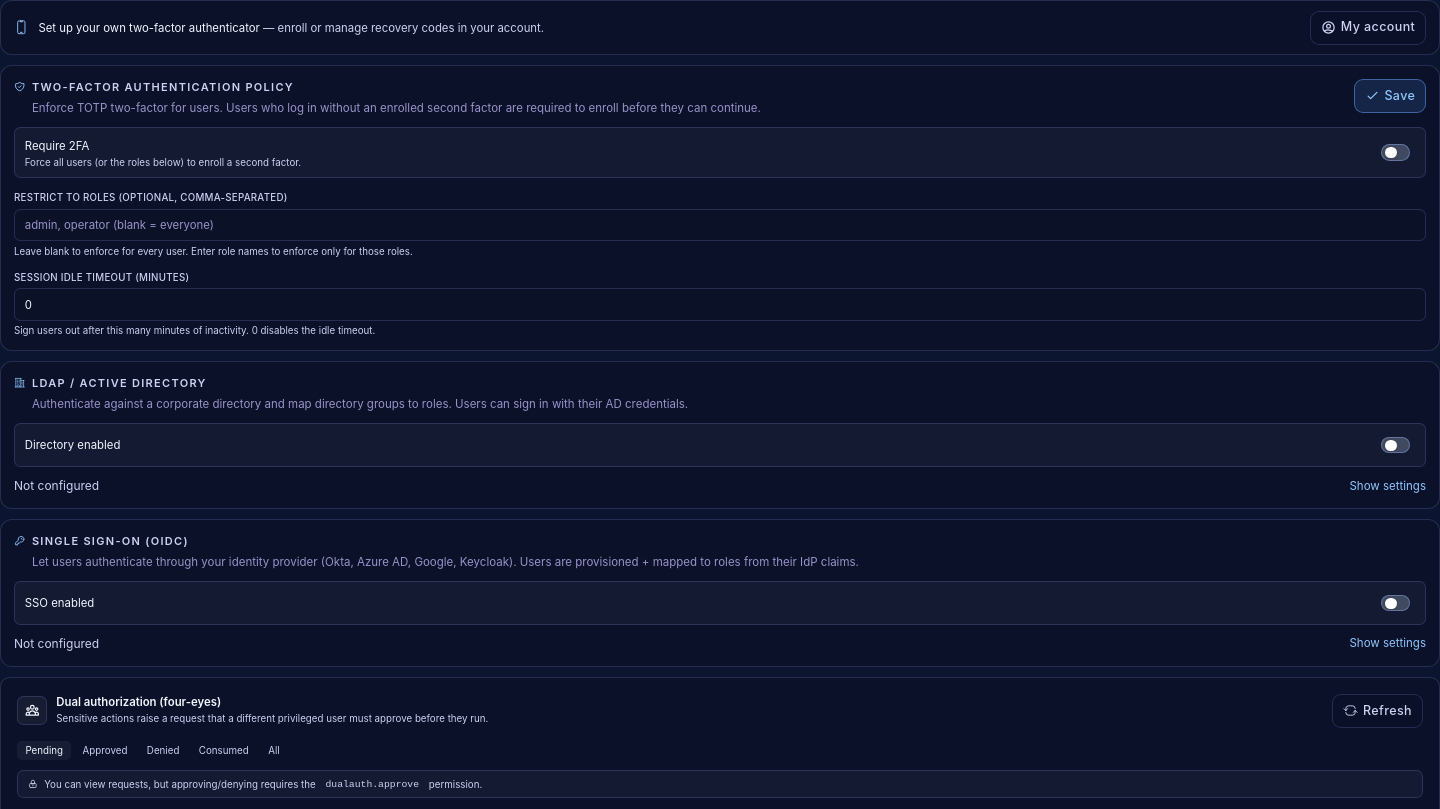
Scenario: the security cards disclose progressively › reveals the form when the operator turns the feature on
The image size is (1440, 809).
Click the switch named "enable directory sync": (1396,445) [1376,432,1415,458]
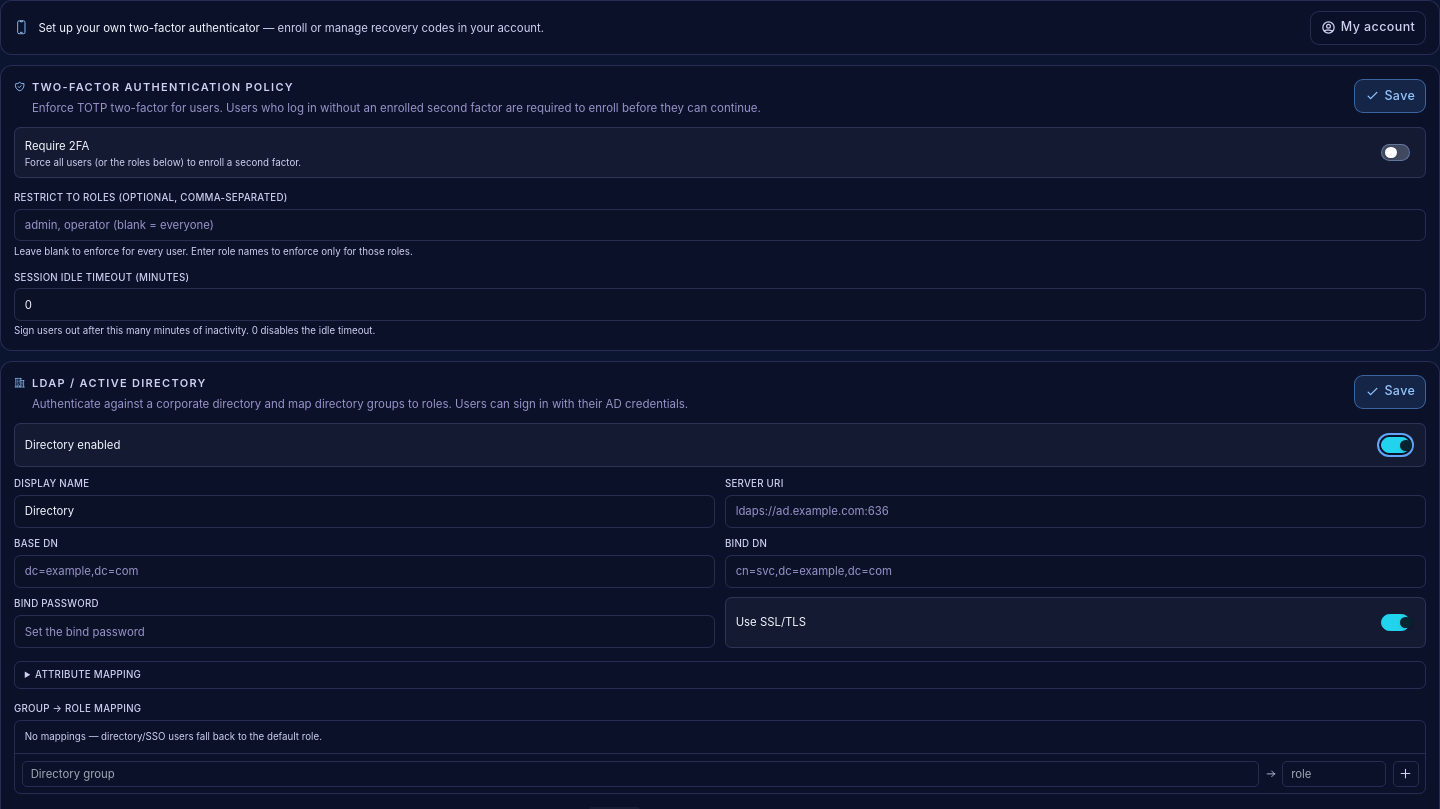
Result: the field labelled "Server URI" is shown at [725,495,1426,528]
